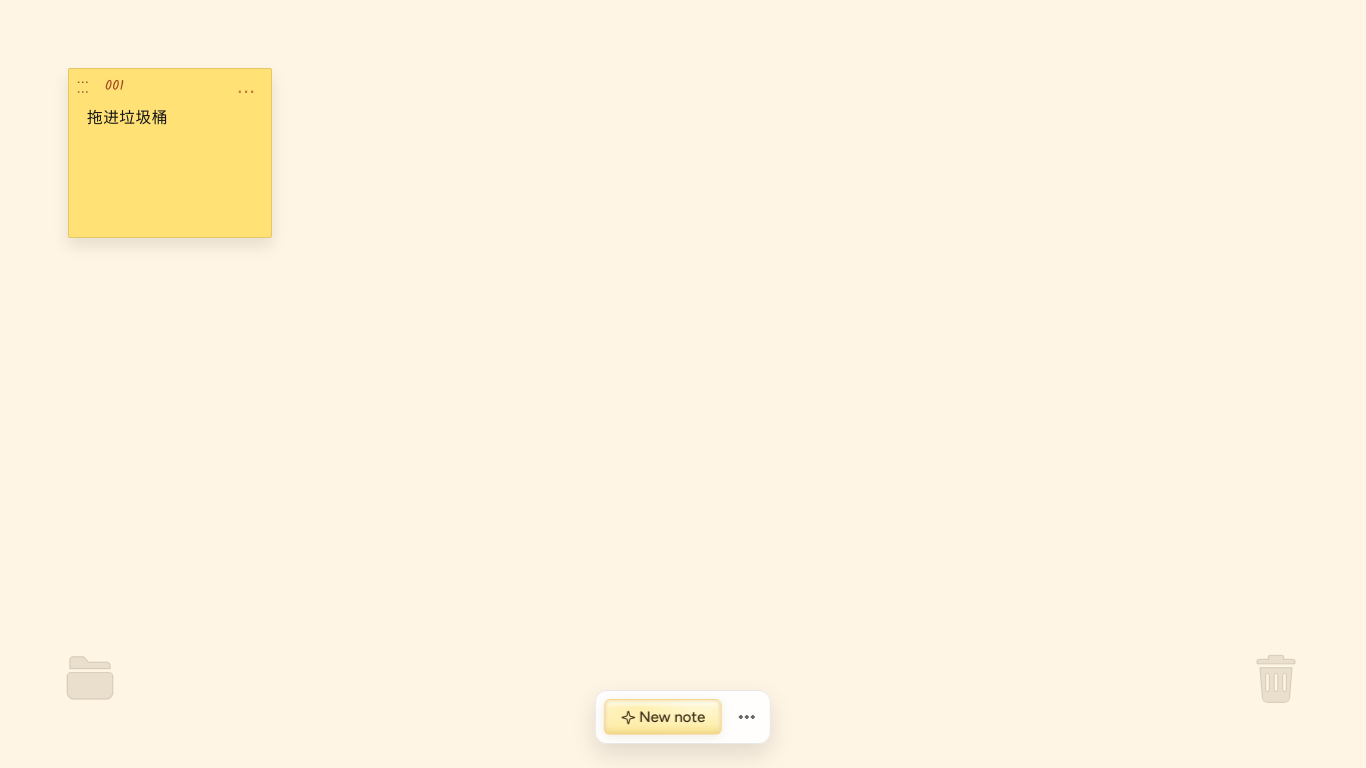
LocalNotes › deletes a note when a card corner enters the trash zone
The width and height of the screenshot is (1366, 768).
Expected: the text "拖进垃圾桶" is shown, [87,107,253,129]
Press the mouse on the text "拖进垃圾桶" at (170, 153), box [68,68,272,238]
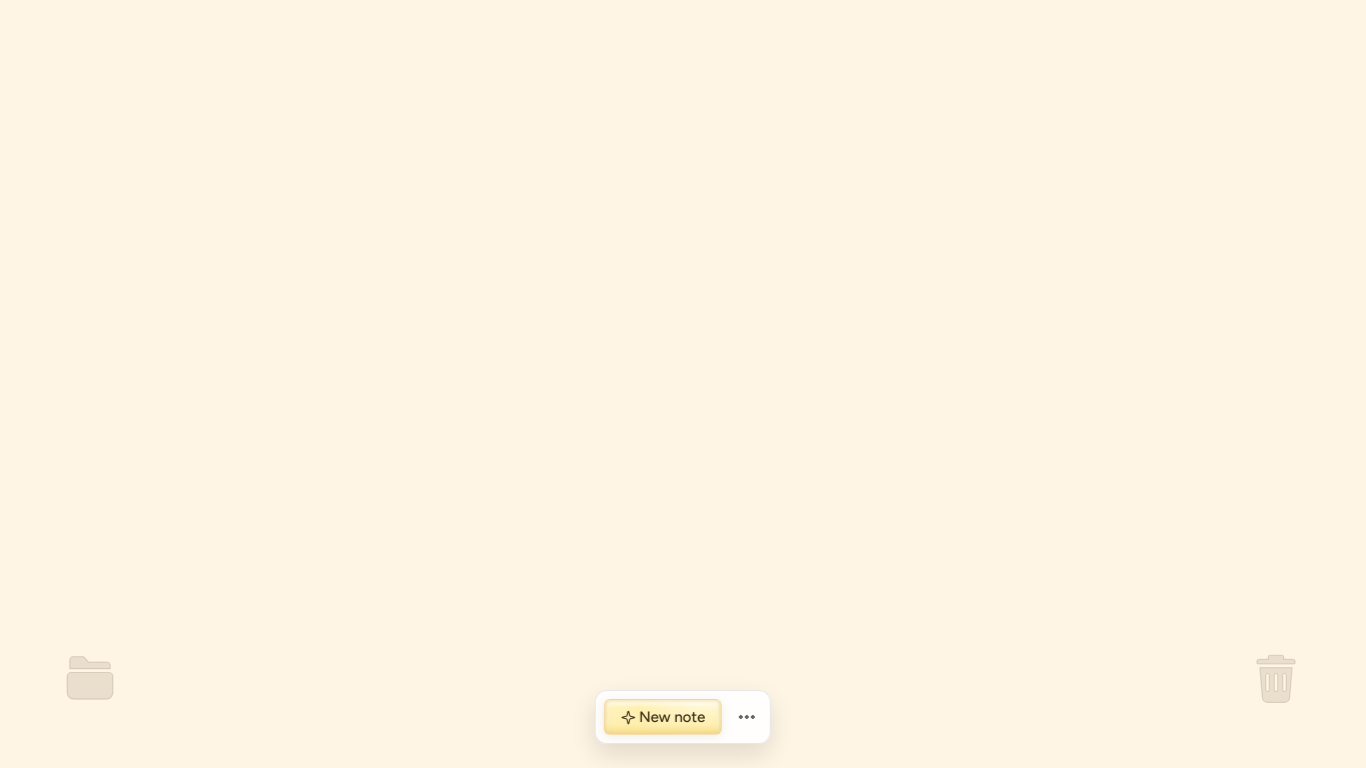
Expected: the button "拖进垃圾桶" is gone
